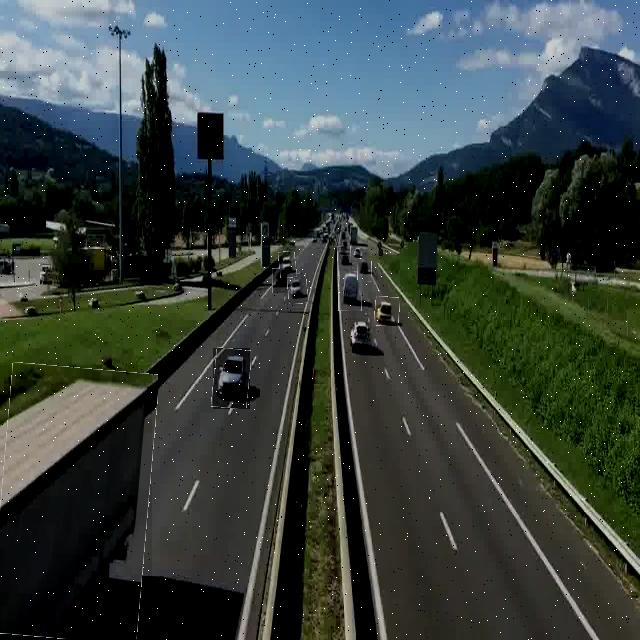Car: (213, 348, 250, 409), (339, 271, 362, 311), (348, 318, 372, 352), (375, 297, 400, 326), (287, 274, 308, 304), (279, 252, 297, 278), (338, 246, 351, 276), (272, 268, 287, 293), (358, 258, 372, 282)
Truck: (0, 365, 152, 640)
